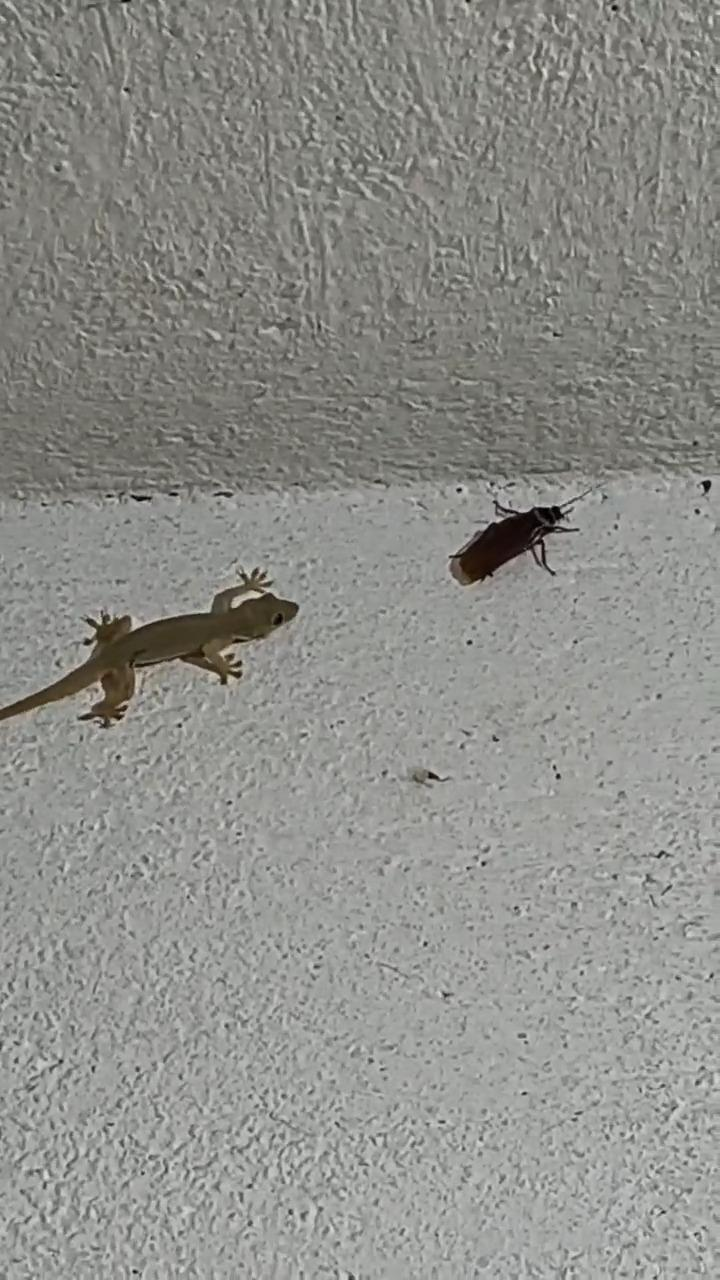cockroach: (438, 483, 599, 590)
lizard: (0, 558, 309, 740)
